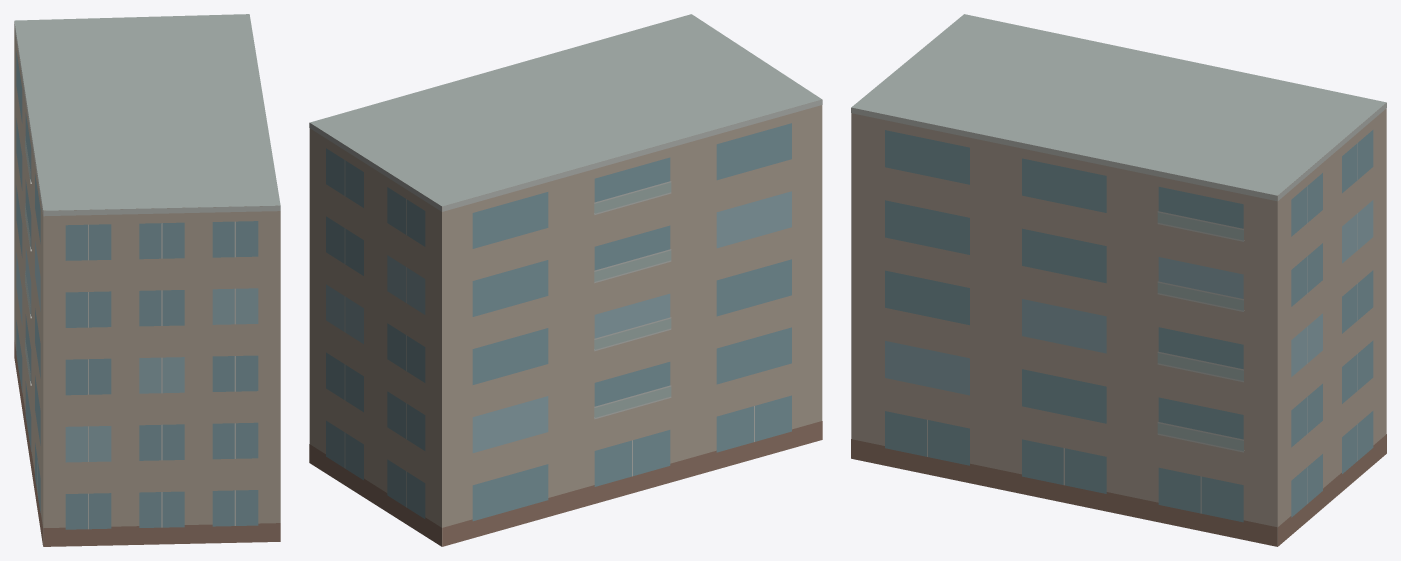
Rendered from survey-upis-32687961.glb.
3 views of the same model, side by side, from view 1: azimuth 30°, elevation 25°; view 2: azimuth 150°, elevation 25°; view 3: azimuth 270°, elevation 25° (orthographic). The views are drawn at different scales.
Visible parts, largest first — view 1: survey-upis-32687961.tmp; view 2: survey-upis-32687961.tmp; view 3: survey-upis-32687961.tmp.
Part boxes in pixels (box(x1,y1,x2,y2)): survey-upis-32687961.tmp: box(14, 14, 280, 546); survey-upis-32687961.tmp: box(309, 14, 822, 546); survey-upis-32687961.tmp: box(851, 14, 1386, 546).
Size of the model in its own units: 16.86 by 15.18 by 21.
